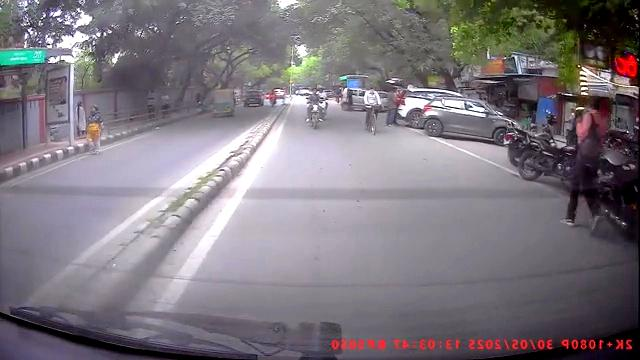motorcycle_without_helmet: (304, 84, 327, 131)
